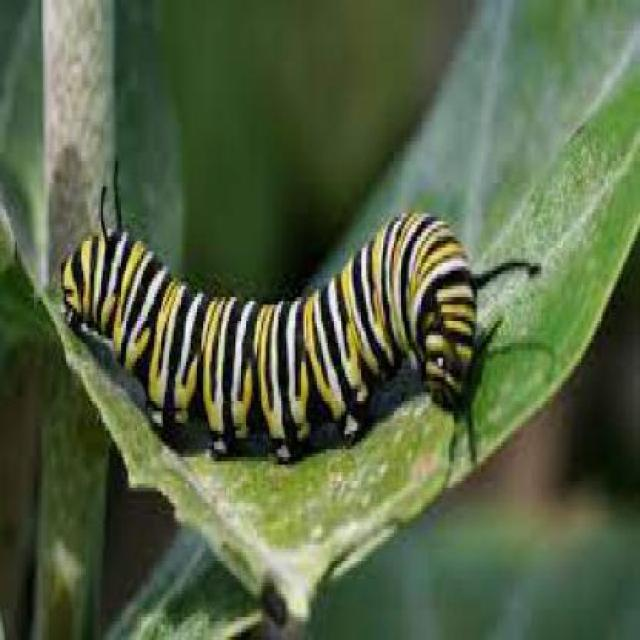Plaga: (40, 164, 524, 416)
